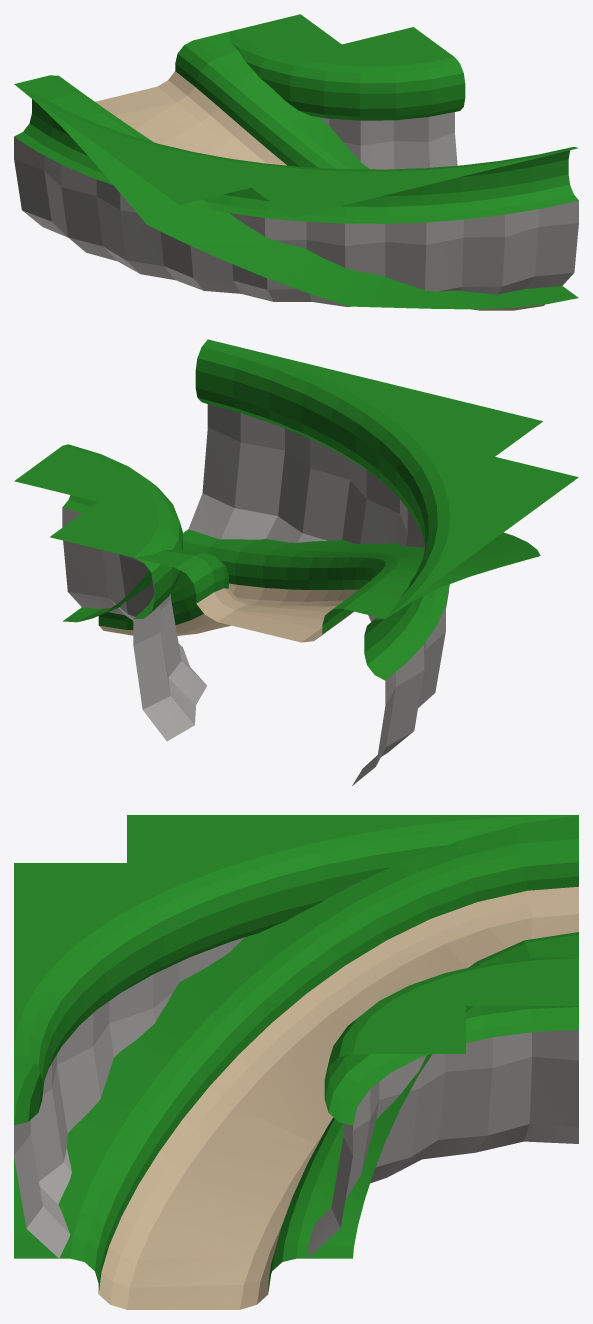
File: Track_Cliff_Curve_Standard_Single_5x5.obj
The picture shows the model from 3 angles, top to bottom: view 1: azimuth 30°, elevation 25°; view 2: azimuth 150°, elevation 25°; view 3: azimuth 270°, elevation 25°; orthographic projection. The views are drawn at different scales.
Visible parts, largest first — view 1: Grass, Rock, Dirt; view 2: Grass, Rock, Dirt; view 3: Grass, Dirt, Rock.
Part boxes in pixels (left/top/right/bottom): Grass: left=14, top=14, right=578, bottom=309; Rock: left=14, top=112, right=578, bottom=306; Dirt: left=95, top=71, right=544, bottom=310; Grass: left=14, top=339, right=578, bottom=680; Rock: left=62, top=404, right=448, bottom=785; Dirt: left=99, top=583, right=358, bottom=642; Grass: left=14, top=815, right=578, bottom=1293; Dirt: left=98, top=886, right=578, bottom=1309; Rock: left=14, top=937, right=578, bottom=1258.
Size of the model in its own units: 5 by 2.5 by 5.
